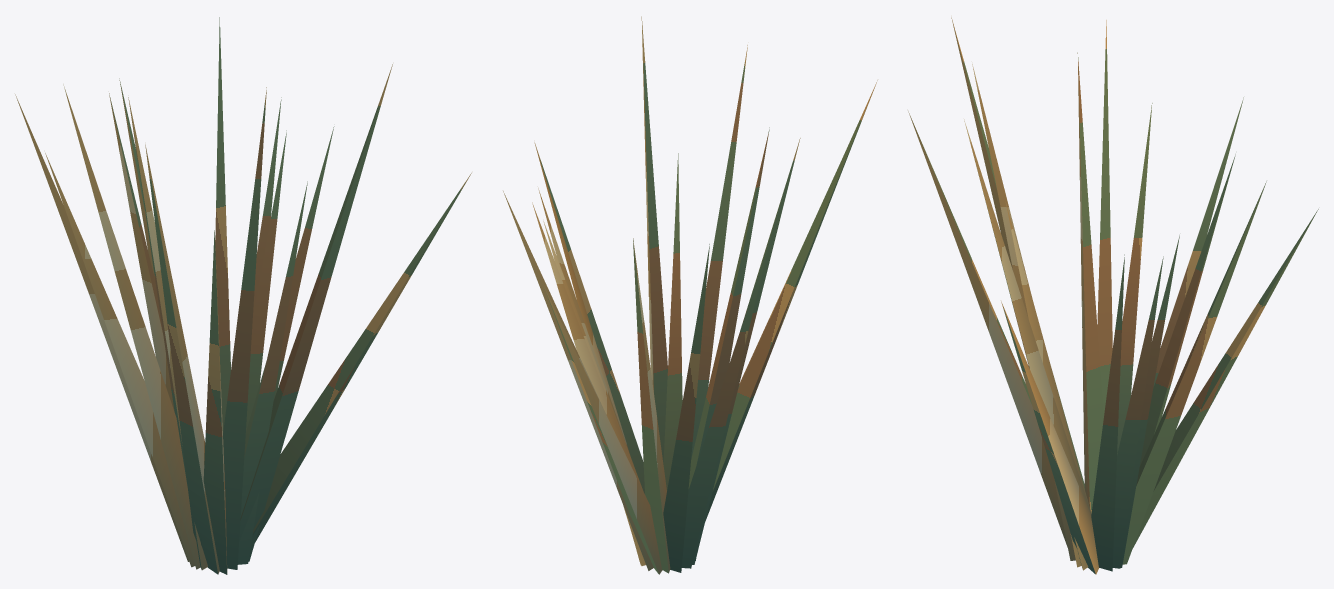
The model's file is wland.grass__tall.glb.
3 views of the same model, side by side, from view 1: azimuth 30°, elevation 25°; view 2: azimuth 150°, elevation 25°; view 3: azimuth 270°, elevation 25° (orthographic). The views are drawn at different scales.
Parts seen in each view (by area): view 1: kit_blades; view 2: kit_blades; view 3: kit_blades.
Boxes of the visible parts, x1=… form: kit_blades: x1=15, y1=17, x2=471, y2=574; kit_blades: x1=503, y1=16, x2=877, y2=574; kit_blades: x1=908, y1=17, x2=1318, y2=574.
Bounding box in the file's own units: 0.5635 × 0.8082 × 0.6118.
1 material, 1 textured.
